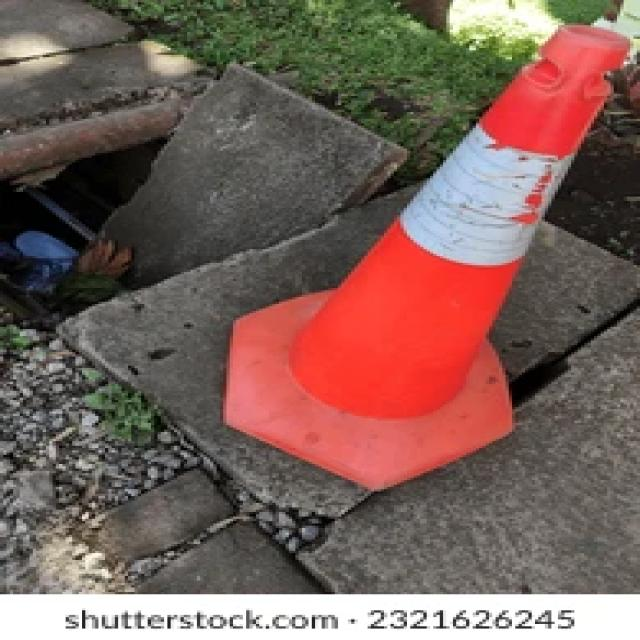Traffic Cone: (207, 0, 640, 507)
